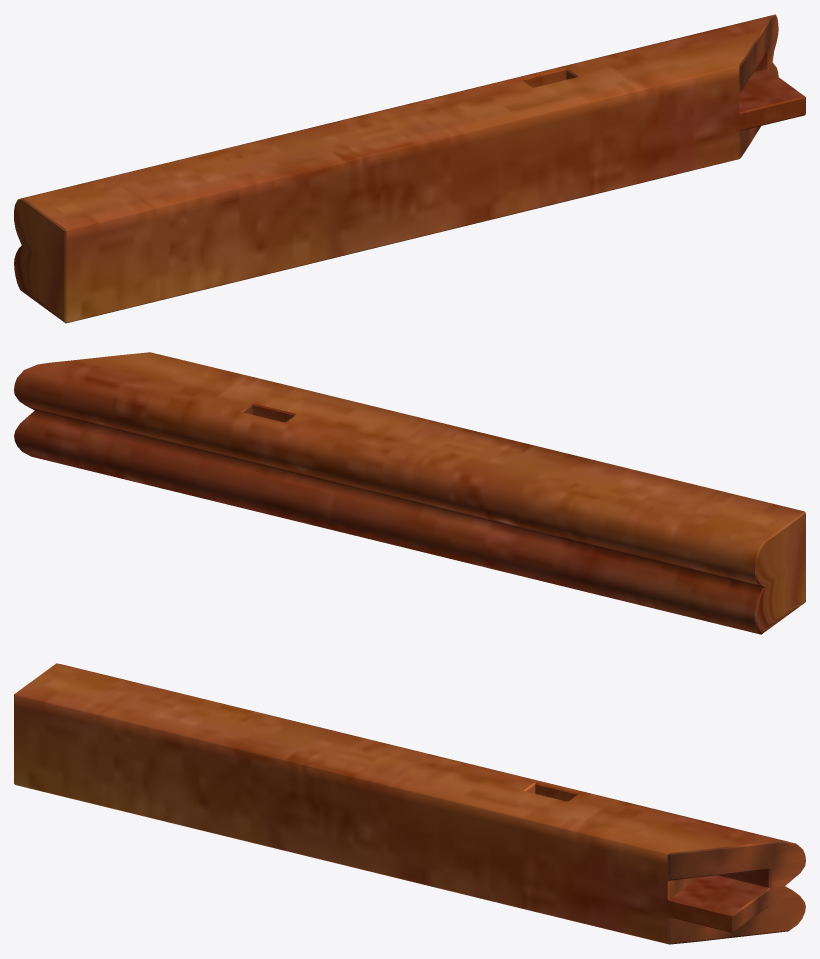
File: ytsy_J_hengzhangi_2.FBX
3 renders of one model, top to bottom at view 1: azimuth 30°, elevation 25°; view 2: azimuth 150°, elevation 25°; view 3: azimuth 330°, elevation 25°, orthographic. The views are drawn at different scales.
Visible parts, largest first — view 1: ytsy_J_hengzhangi_2; view 2: ytsy_J_hengzhangi_2; view 3: ytsy_J_hengzhangi_2.
Part boxes in pixels (left/top/right/bottom): ytsy_J_hengzhangi_2: left=14, top=14, right=805, bottom=323; ytsy_J_hengzhangi_2: left=14, top=352, right=805, bottom=634; ytsy_J_hengzhangi_2: left=14, top=663, right=805, bottom=944.
Size of the model in its own units: 33.94 by 4.01 by 4.01.
